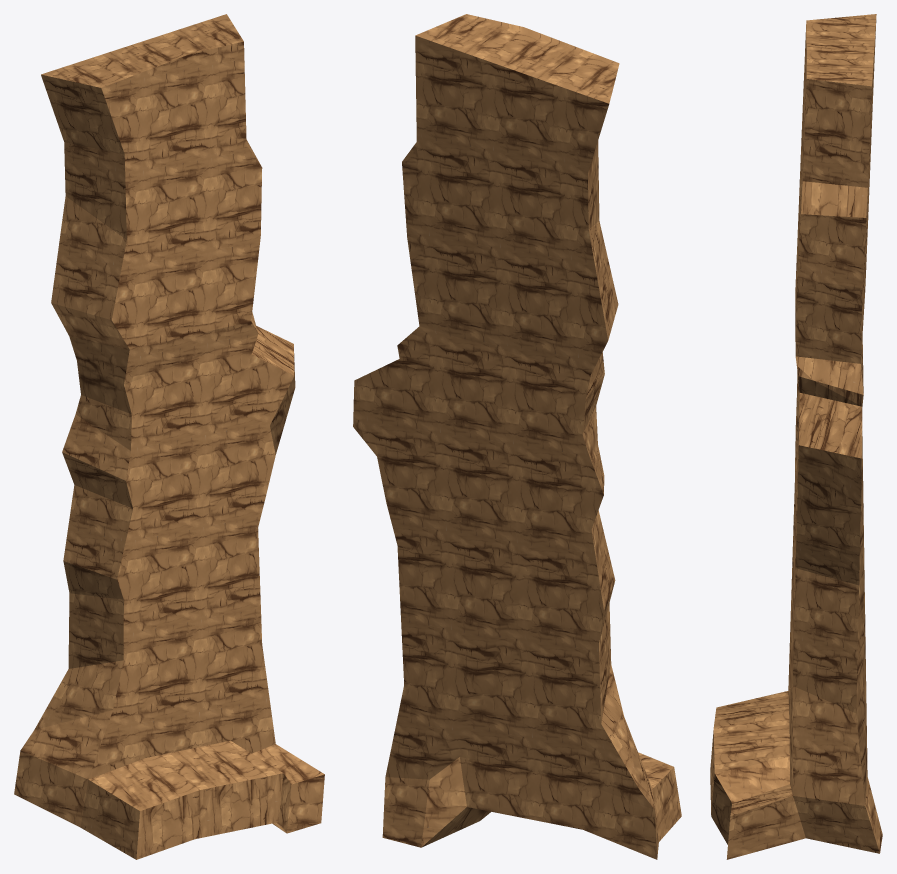
Rendered from plano8.obj.
3 views of the same model, side by side, from view 1: azimuth 30°, elevation 25°; view 2: azimuth 150°, elevation 25°; view 3: azimuth 270°, elevation 25° (orthographic). The views are drawn at different scales.
Parts seen in each view (by area): view 1: Plane.045_Plane.049; view 2: Plane.045_Plane.049; view 3: Plane.045_Plane.049.
Part boxes in pixels (x1=…): Plane.045_Plane.049: x1=14, y1=14, x2=324, y2=859; Plane.045_Plane.049: x1=353, y1=14, x2=681, y2=859; Plane.045_Plane.049: x1=710, y1=14, x2=882, y2=859.
Size of the model in its own units: 495 by 1281 by 261.
Materials: 1 (1 with a texture image).
